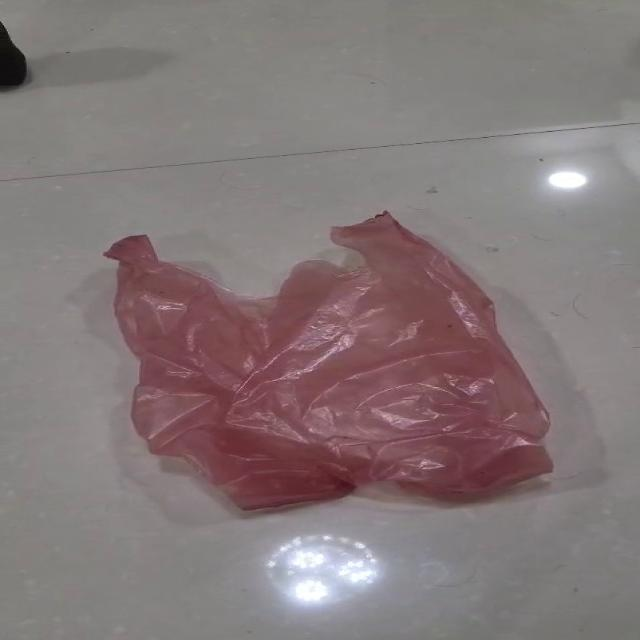plastic: (102, 209, 554, 512)
